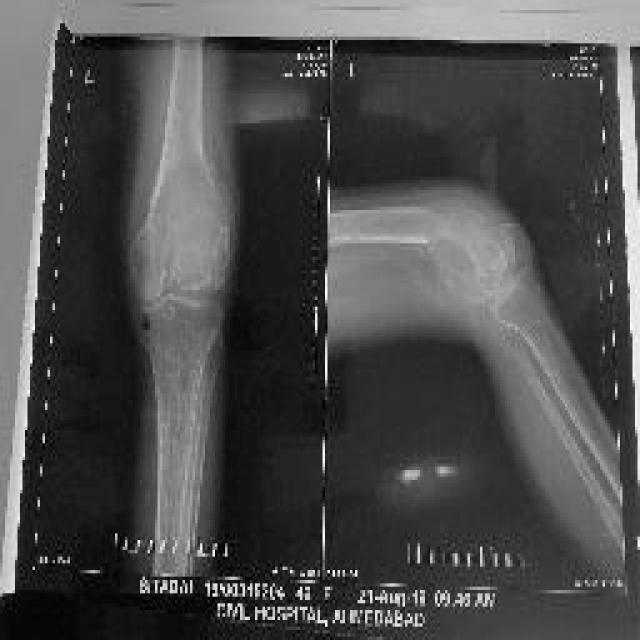bone-cancer: (155, 160, 220, 274), (429, 209, 503, 273)
